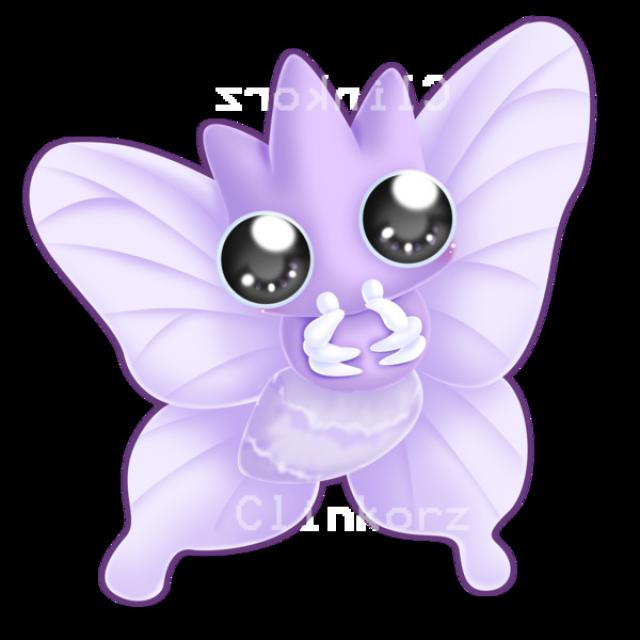Venomoth: (88, 32, 584, 551)
